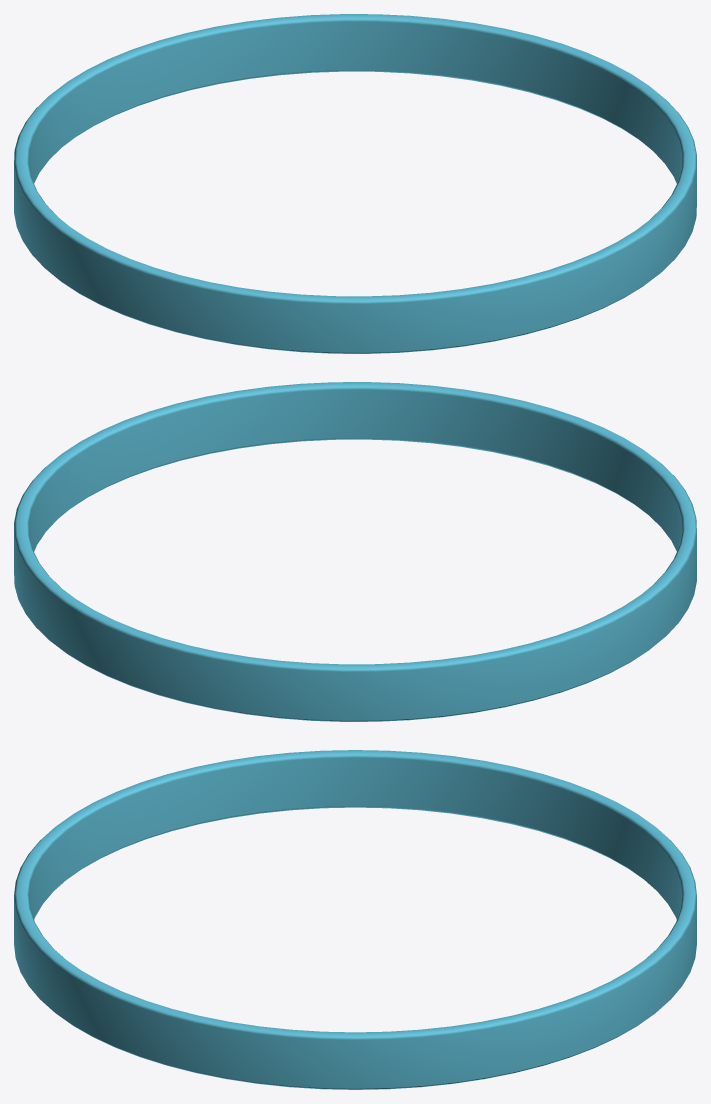
3 renders of one model, top to bottom at view 1: azimuth 30°, elevation 25°; view 2: azimuth 150°, elevation 25°; view 3: azimuth 270°, elevation 25°, orthographic.
Parts seen in each view (by area): view 1: seal_body; view 2: seal_body; view 3: seal_body.
Part boxes in pixels (x1=…): seal_body: x1=14, y1=14, x2=696, y2=353; seal_body: x1=14, y1=382, x2=696, y2=721; seal_body: x1=14, y1=750, x2=696, y2=1089.
Bounding box in the file's own units: 0.1461 × 0.0127 × 0.1461.
